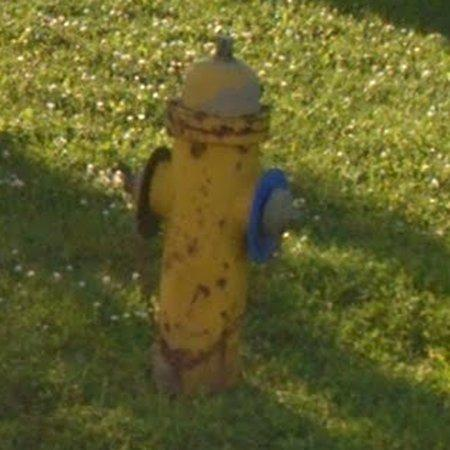a fire hydrant: (138, 36, 302, 396)
